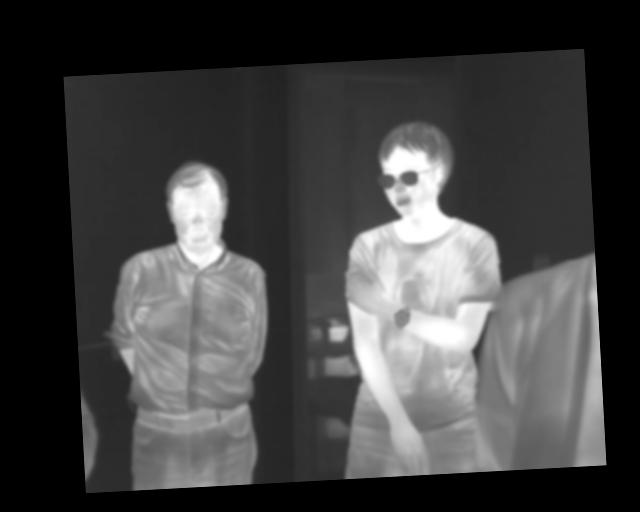face: (375, 118, 456, 220), (161, 157, 231, 256)
